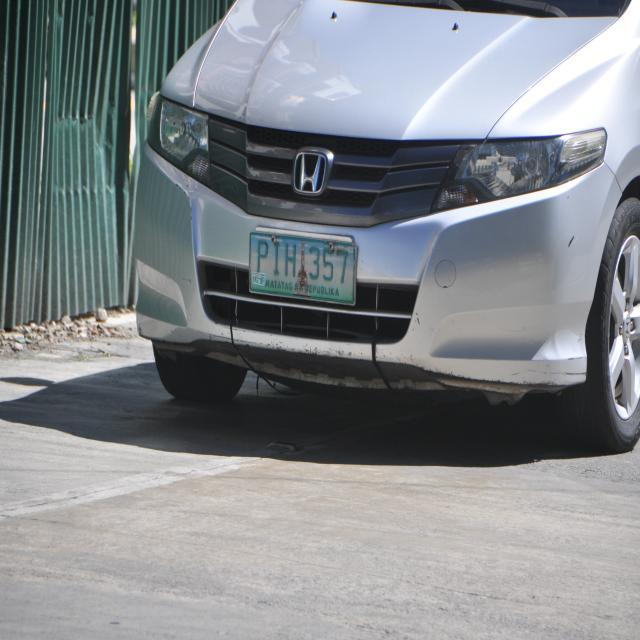LicensePlate: (239, 230, 369, 313)
